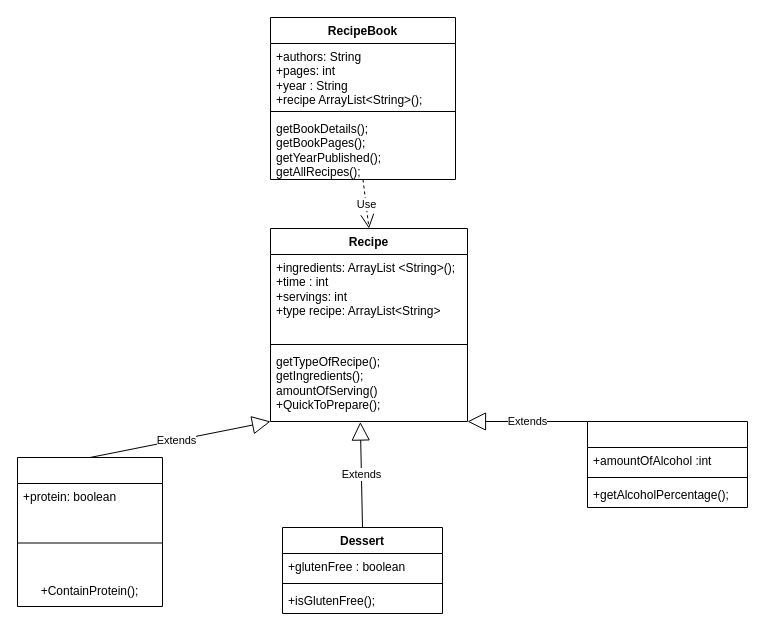
This 765x634 diagram has some shape labels left out. The box of each missing label's shape, as (x1, y1, x2, y2) in pixels:
Drink: (586, 420, 748, 508)
MainDish: (16, 456, 162, 606)
